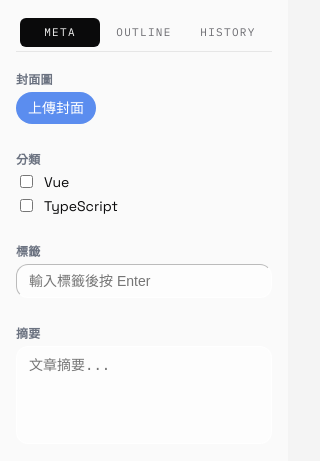
Test: EditorMetaSidebar › History tab › 清單為空時顯示空狀態提示
Click the button "History" at x=228, y=32, box left=188, top=18, right=268, bottom=47
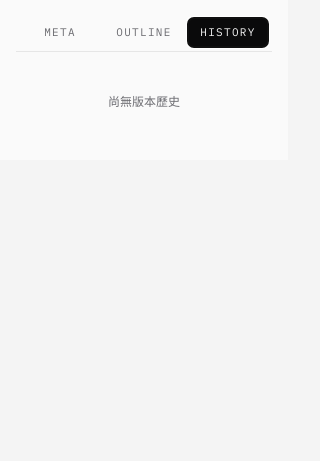
Now the text "尚無版本歷史" is shown, box left=108, top=94, right=180, bottom=110
